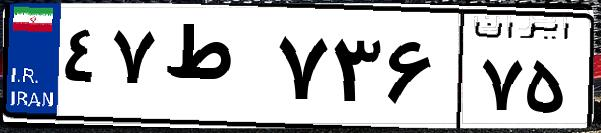3: (330, 28, 385, 110)
4: (57, 26, 110, 100)
5: (525, 38, 570, 115)
6: (385, 28, 445, 110)
7: (270, 28, 330, 110), (475, 38, 525, 113), (110, 28, 158, 98)
ط: (158, 20, 270, 120)
